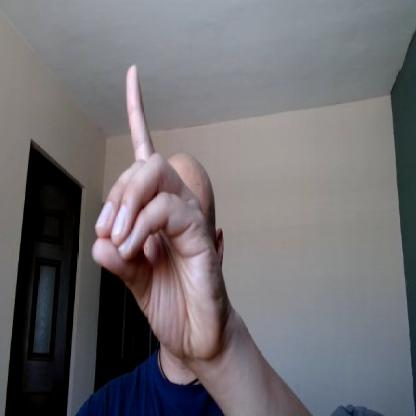D: (94, 65, 227, 359)
